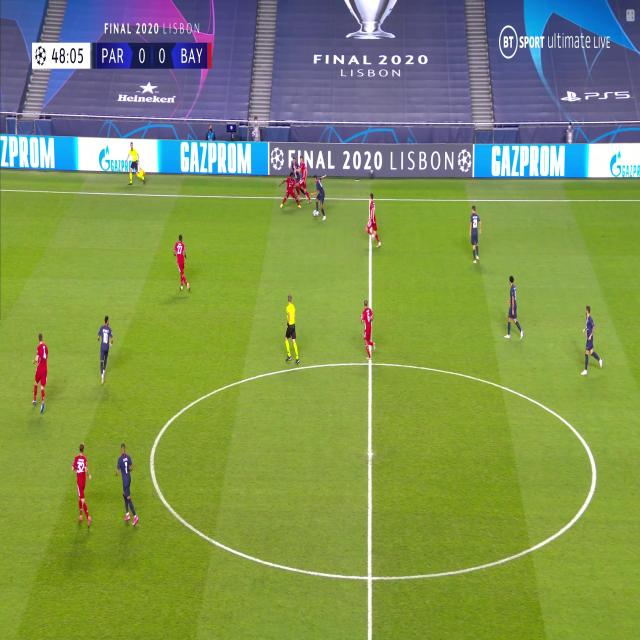ball: (313, 209, 317, 217)
player: (71, 442, 93, 530), (115, 443, 138, 527), (579, 304, 601, 377), (31, 331, 49, 414), (282, 292, 300, 366), (503, 274, 522, 341), (96, 314, 114, 384), (359, 298, 376, 361), (173, 234, 191, 293), (364, 192, 382, 249), (126, 142, 145, 186), (279, 172, 301, 208), (468, 205, 481, 265), (312, 173, 326, 220), (297, 156, 311, 202), (290, 156, 300, 180)
